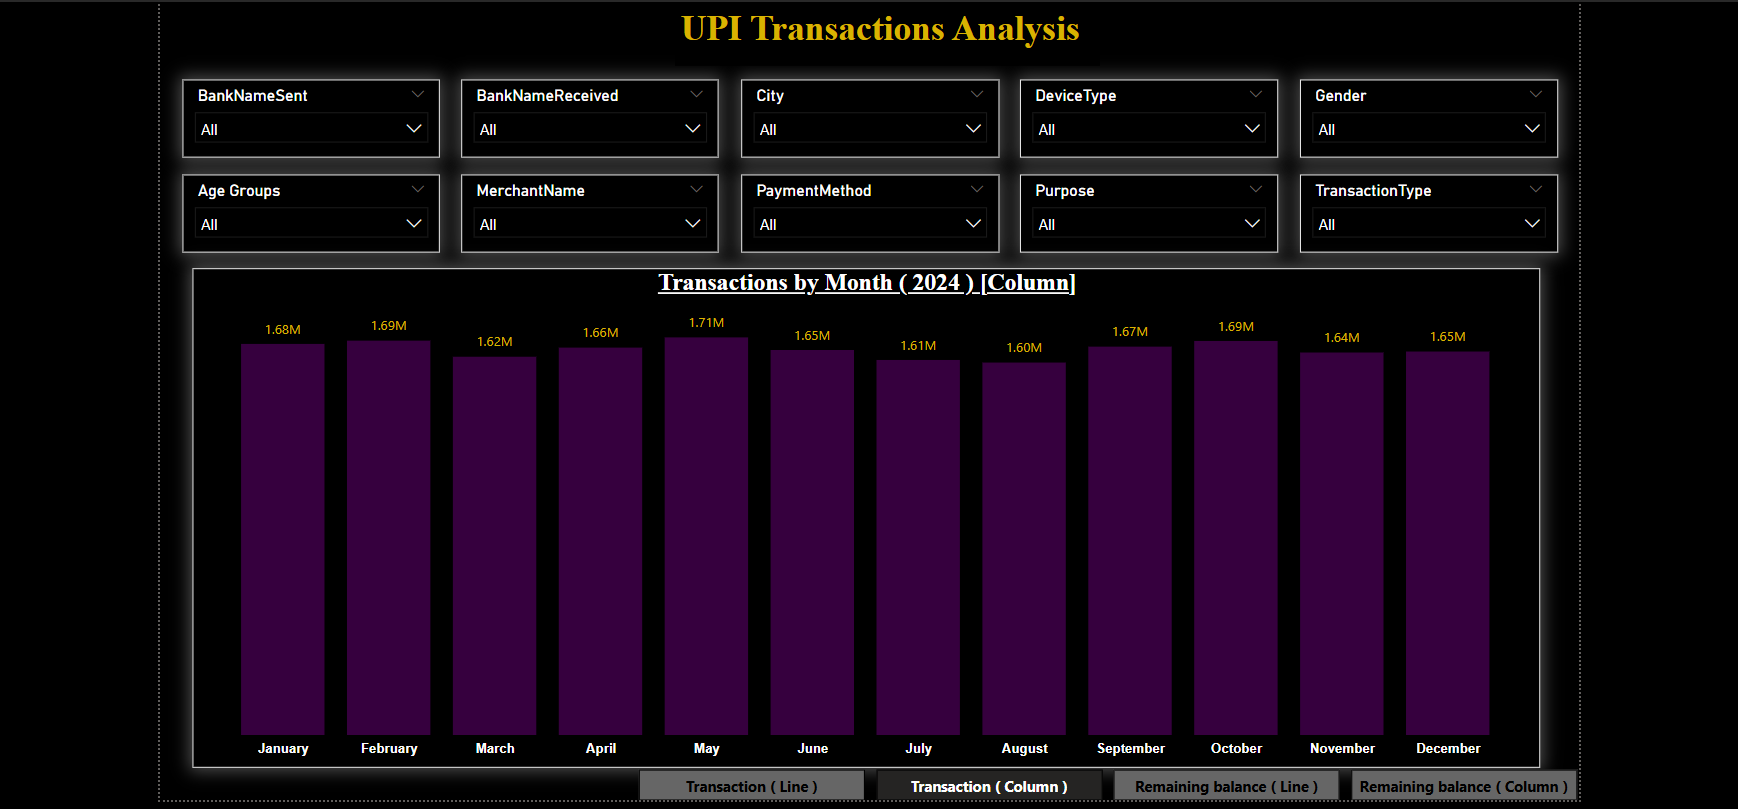

Layout of this report page (visuals, bound fields, positions):
{"tool":"powerbi","page":{"name":"Page 1","canvas":[1280,720],"ordinal":0},"visuals":[{"type":"slicer","fields":{"Values":["UPI Transactions.BankNameSent"]},"box":[20,70,232,70],"z":0},{"type":"slicer","fields":{"Values":["UPI Transactions.BankNameReceived"]},"box":[272,70,232,70],"z":1000},{"type":"slicer","fields":{"Values":["UPI Transactions.City"]},"box":[524,70,232.6,70],"z":2000},{"type":"slicer","fields":{"Values":["UPI Transactions.DeviceType"]},"box":[776,70,232.6,70],"z":3000},{"type":"slicer","fields":{"Values":["UPI Transactions.Gender"]},"box":[1028,70,232.6,70],"z":4000},{"type":"slicer","fields":{"Values":["UPI Transactions.Age Groups"]},"box":[20,155,232,70],"z":5000},{"type":"slicer","fields":{"Values":["UPI Transactions.MerchantName"]},"box":[272,155,232,70],"z":6000},{"type":"slicer","fields":{"Values":["UPI Transactions.PaymentMethod"]},"box":[524,155,232.6,70],"z":7000},{"type":"slicer","fields":{"Values":["UPI Transactions.Purpose"]},"box":[776,155,232.6,70],"z":8000},{"type":"slicer","fields":{"Values":["UPI Transactions.TransactionType"]},"box":[1028,155,232.6,70],"z":9000},{"type":"areaChart","title":"Transactions by Month (2024) [Line]","fields":{"Y":["Sum(UPI Transactions.Amount)"],"Category":["UPI Transactions.TransactionDate.Variation.Date Hierarchy.Month"]},"box":[30,240,1215.7,450],"z":10000},{"type":"bookmarkNavigator","box":[431.7,691.6,848.4,28.6],"z":13501},{"type":"textbox","box":[464,0,383.1,57.2],"z":13502}]}

Visuals, with their boxes in screenshot pixels (x1, y1, x2, y2):
slicer - UPI Transactions.BankNameSent: {"x1": 176, "y1": 78, "x2": 434, "y2": 155}
slicer - UPI Transactions.BankNameReceived: {"x1": 456, "y1": 78, "x2": 713, "y2": 155}
slicer - UPI Transactions.City: {"x1": 735, "y1": 78, "x2": 993, "y2": 155}
slicer - UPI Transactions.DeviceType: {"x1": 1015, "y1": 78, "x2": 1273, "y2": 155}
slicer - UPI Transactions.Gender: {"x1": 1295, "y1": 78, "x2": 1553, "y2": 155}
slicer - UPI Transactions.Age Groups: {"x1": 176, "y1": 172, "x2": 434, "y2": 250}
slicer - UPI Transactions.MerchantName: {"x1": 456, "y1": 172, "x2": 713, "y2": 250}
slicer - UPI Transactions.PaymentMethod: {"x1": 735, "y1": 172, "x2": 993, "y2": 250}
slicer - UPI Transactions.Purpose: {"x1": 1015, "y1": 172, "x2": 1273, "y2": 250}
slicer - UPI Transactions.TransactionType: {"x1": 1295, "y1": 172, "x2": 1553, "y2": 250}
"Transactions by Month (2024) [Line]" areaChart: {"x1": 187, "y1": 266, "x2": 1536, "y2": 766}
bookmarkNavigator: {"x1": 633, "y1": 767, "x2": 1574, "y2": 799}
textbox: {"x1": 669, "y1": 0, "x2": 1094, "y2": 63}
